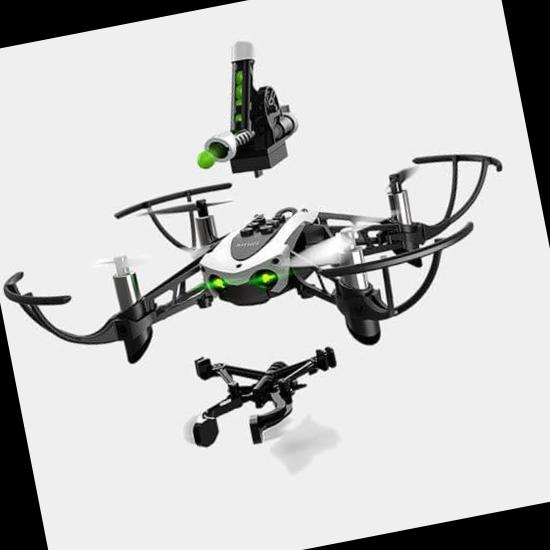drone: (0, 131, 539, 394)
